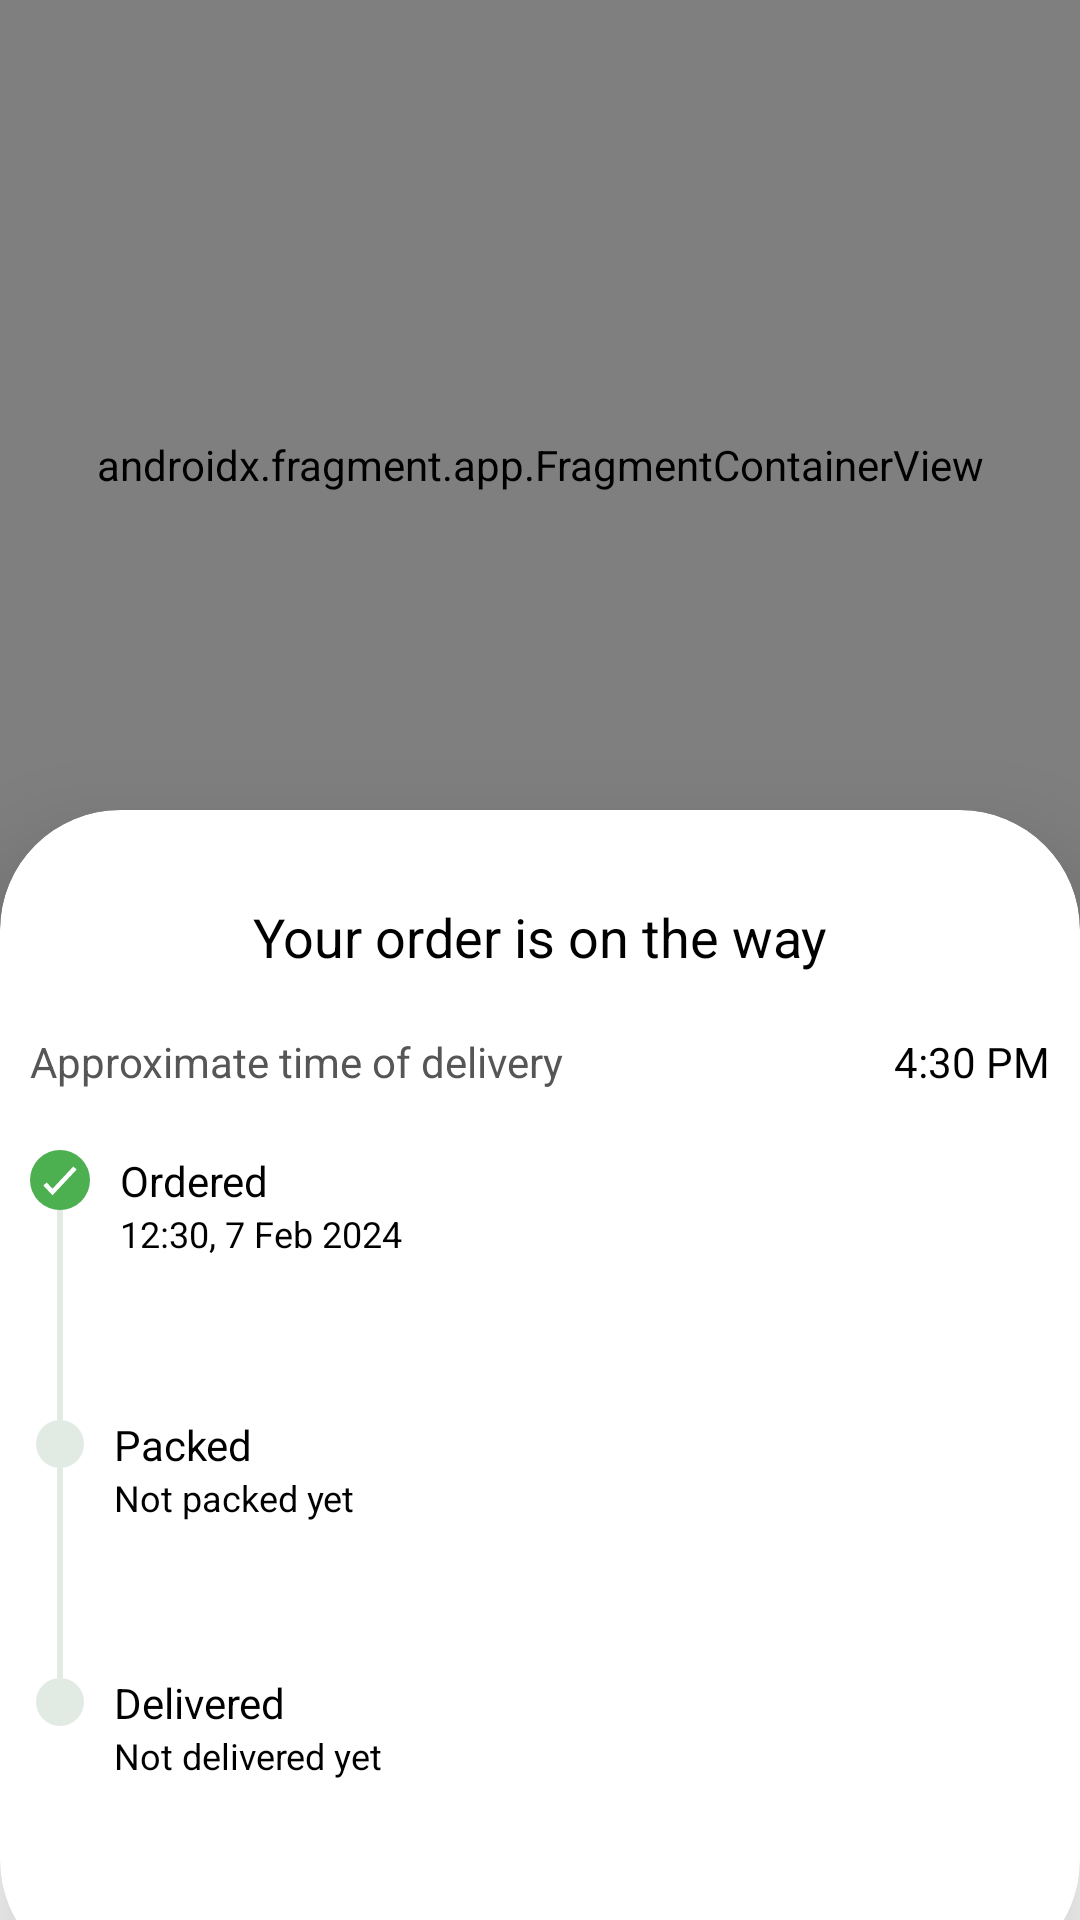

Icons on this 1080w x 1920h Android screen, each with its box as (x1, y1, x2, y2):
passed step: (30, 1150, 90, 1210)
